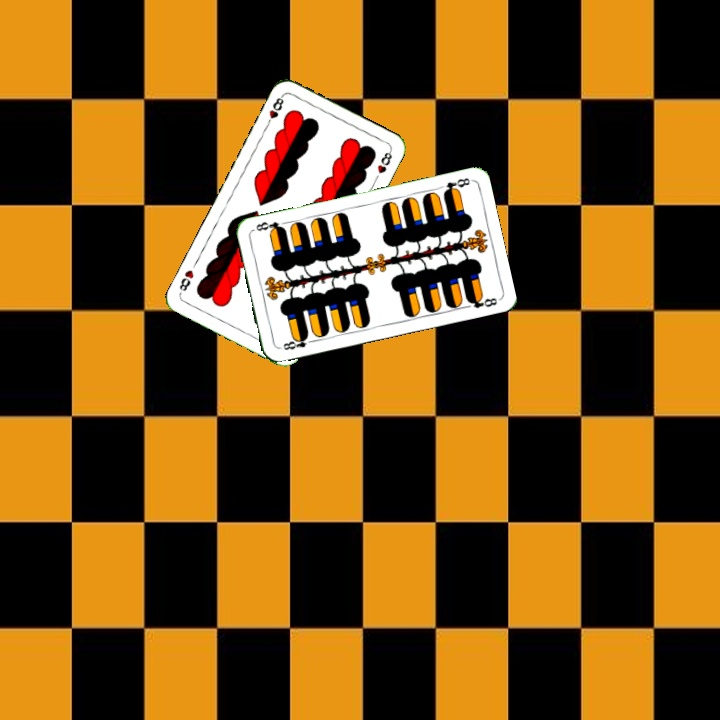E8: (279, 331, 316, 353), (439, 174, 472, 197)
H8: (262, 91, 286, 129)
